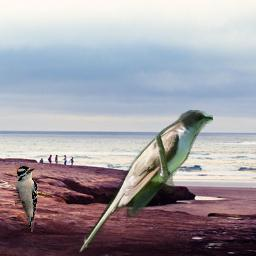Cuckoo: (77, 110, 213, 255)
Woodpecker: (14, 166, 37, 232)
